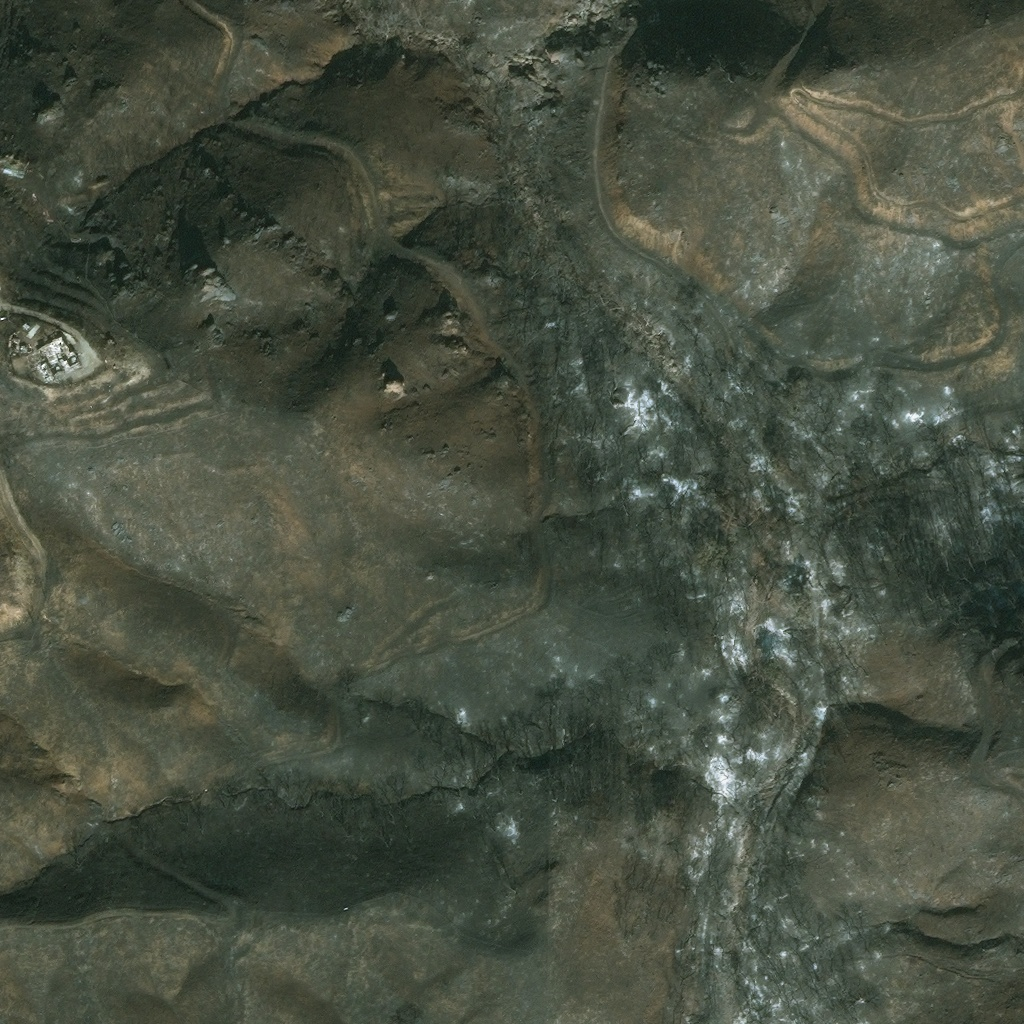3 destroyed: (30, 332, 81, 381), (1, 155, 31, 172), (4, 334, 20, 349), (25, 344, 31, 352)
